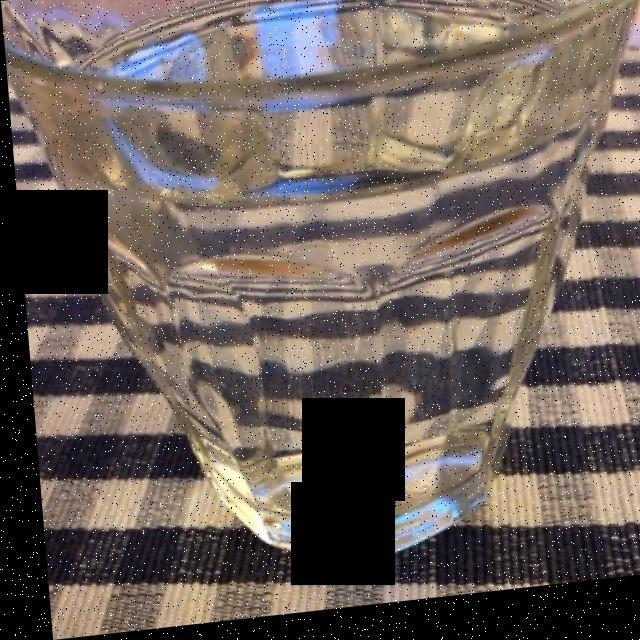water: (23, 0, 598, 529)
